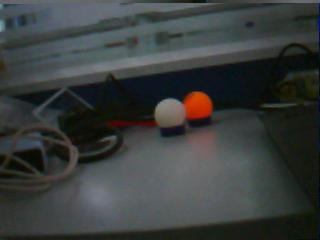oball: (186, 92, 211, 118)
